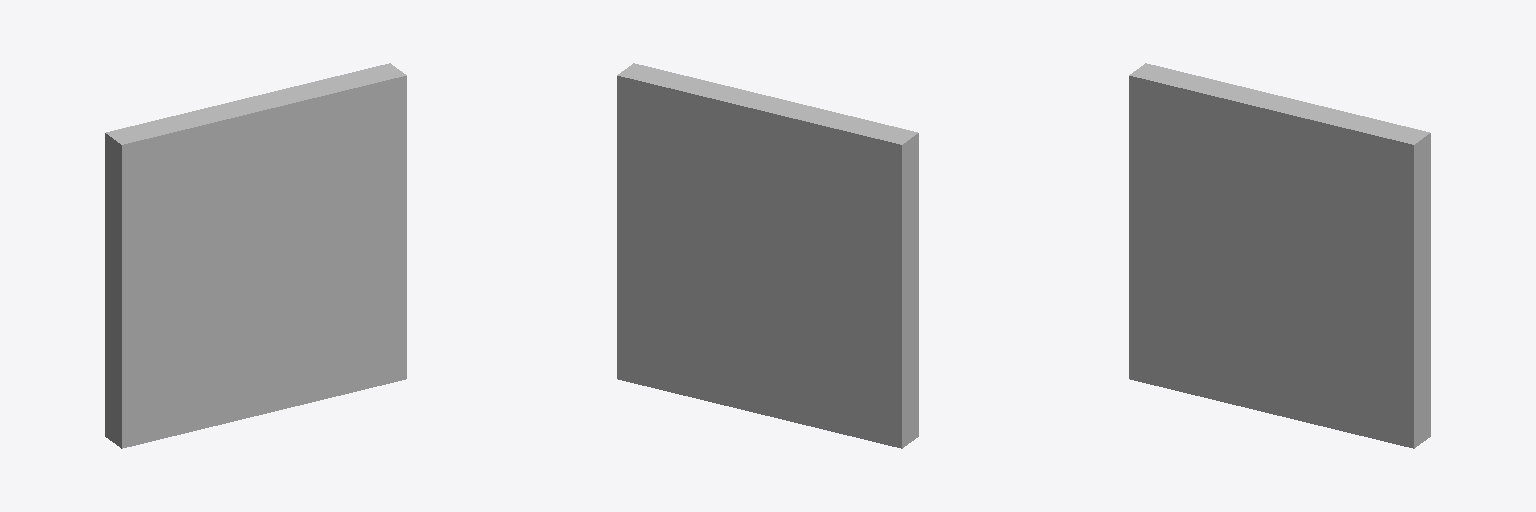
The model's file is Ejemplo texto.obj.
The picture shows the model from 3 angles: view 1: azimuth 30°, elevation 25°; view 2: azimuth 150°, elevation 25°; view 3: azimuth 330°, elevation 25°; orthographic projection.
Visible parts, largest first — view 1: Object.1; view 2: Object.1; view 3: Object.1.
Boxes of the visible parts, x1,y1,x2,y2 form: Object.1: [105, 63, 406, 448]; Object.1: [617, 63, 918, 448]; Object.1: [1129, 63, 1430, 448].
Size of the model in its own units: 96.27 by 98.04 by 9.83.